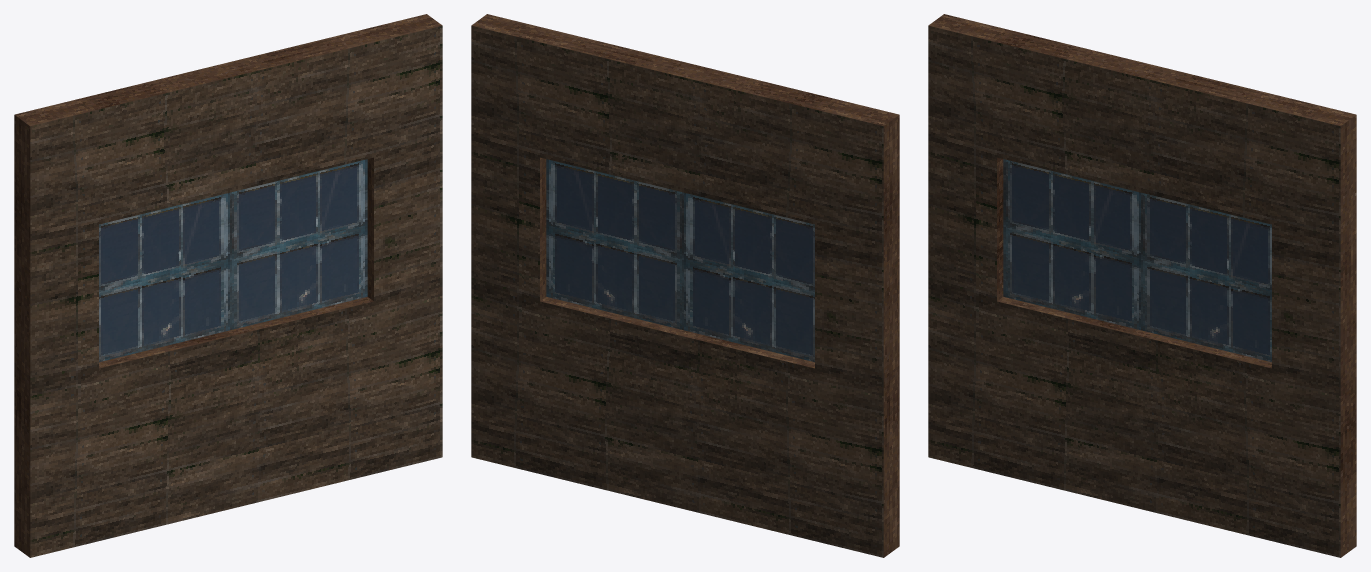
Rendered from window_small_double_01.glb.
3 renders of one model, left to right at view 1: azimuth 30°, elevation 25°; view 2: azimuth 150°, elevation 25°; view 3: azimuth 330°, elevation 25°, orthographic.
Parts seen in each view (by area): view 1: window_small_double_012, window_small_01_002, window_small_01_001; view 2: window_small_double_012, window_small_01_002, window_small_01_001; view 3: window_small_double_012, window_small_01_001, window_small_01_002.
Boxes of the visible parts, x1,y1,x2,y2 form: window_small_double_012: (14,14,442,557); window_small_01_002: (230,159,367,330); window_small_01_001: (99,192,229,362); window_small_double_012: (471,14,899,557); window_small_01_002: (546,159,683,330); window_small_01_001: (684,192,814,362); window_small_double_012: (928,14,1356,557); window_small_01_001: (1003,159,1140,330); window_small_01_002: (1141,192,1271,362).
Size of the model in its own units: 3 by 3 by 0.2.
3 materials, 3 textured.
